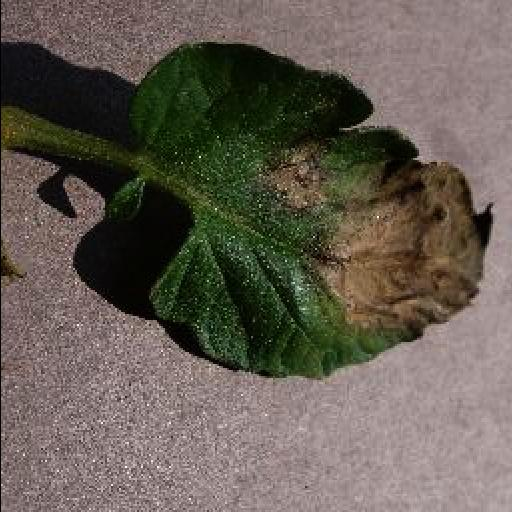disease_tomato: (128, 42, 494, 378)
